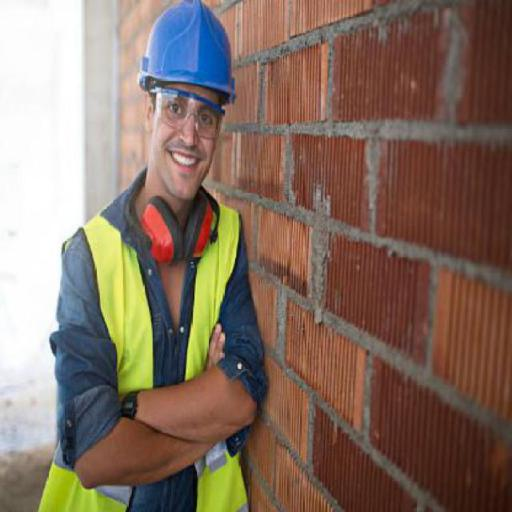glass: (148, 82, 226, 140)
hardhat: (129, 2, 247, 110)
person: (30, 2, 274, 511)
vest: (45, 190, 260, 510)
